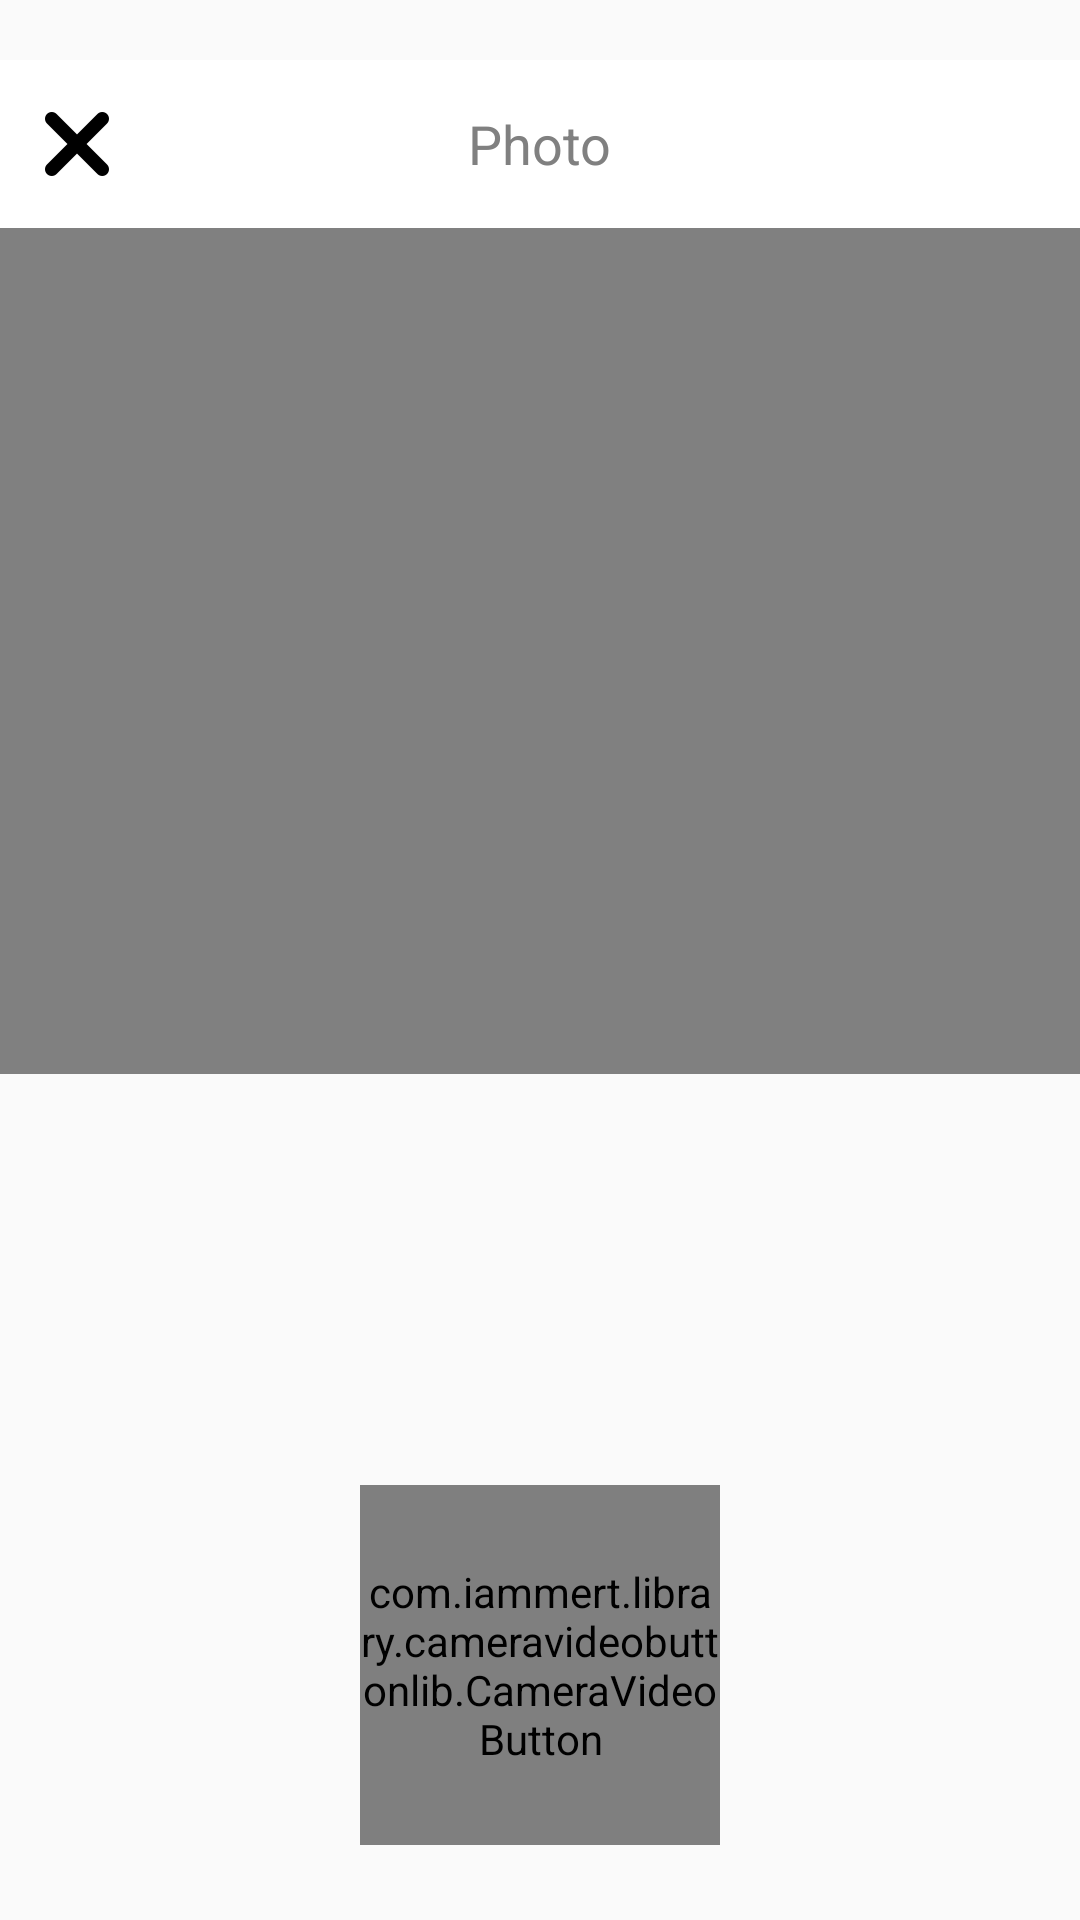

Icons on this 1080×1920 Android screen, each with its box as BBox(x1, y1, x2, y2):
close: BBox(45, 112, 109, 176)
